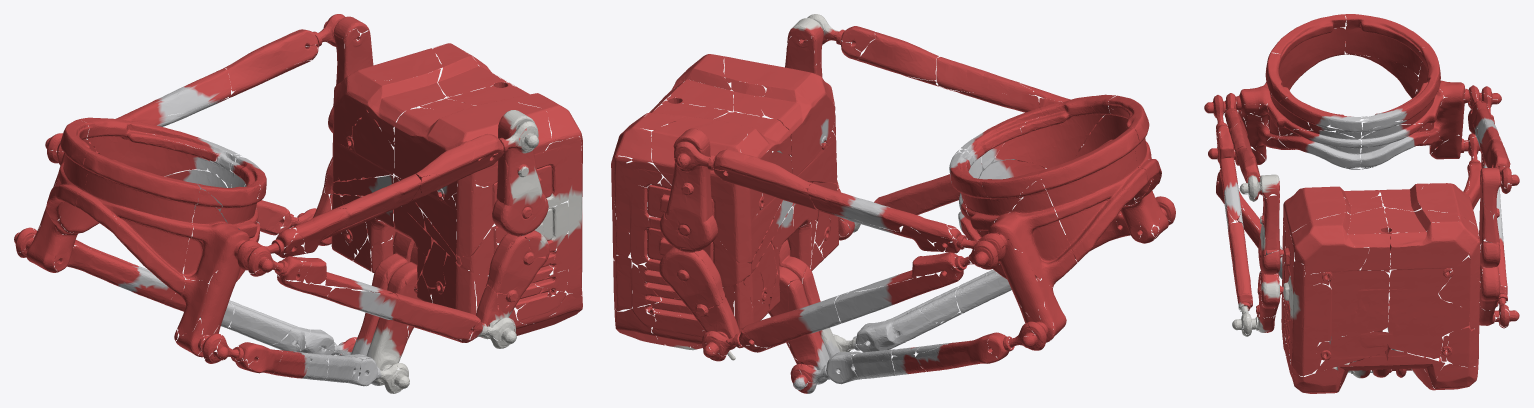
File: ORS6_tripo_colored.glb
The picture shows the model from 3 angles, left to right: view 1: azimuth 30°, elevation 25°; view 2: azimuth 150°, elevation 25°; view 3: azimuth 270°, elevation 25°; orthographic projection. The views are drawn at different scales.
Visible parts, largest first — view 1: world; view 2: world; view 3: world.
Part boxes in pixels (x1,y1,x2,y2): world: [14, 14, 582, 393]; world: [611, 14, 1175, 393]; world: [1204, 14, 1519, 393].
Bounding box in the file's own units: 306 × 191 × 220.
